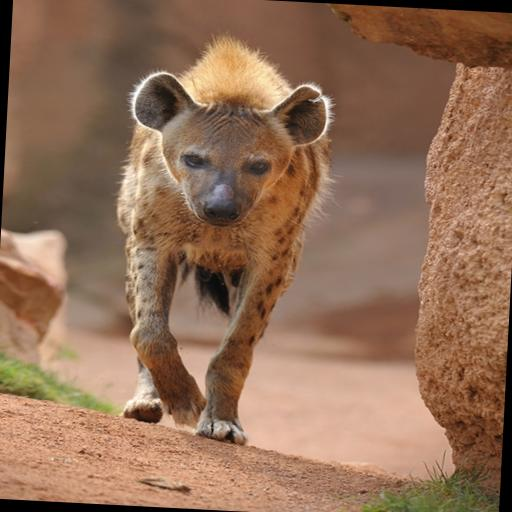hyenas: (65, 0, 366, 451)
